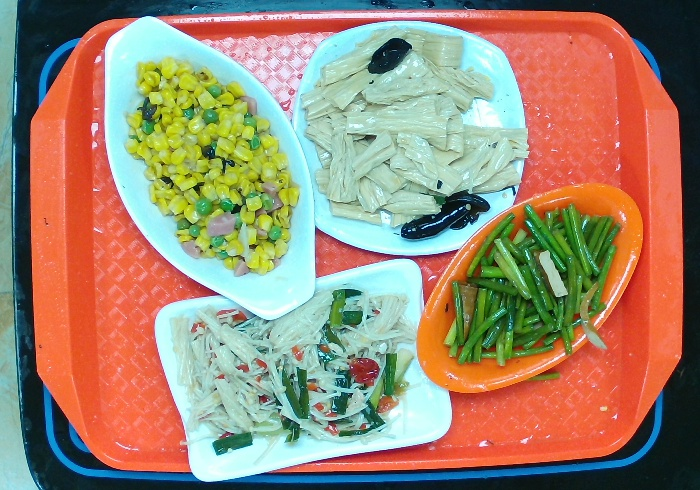RJxy-Ju_Huang_Tuo_Yuan: (416, 181, 644, 395)
RJxy-Si_Fang_Ao_Bian_Wan: (152, 257, 455, 482)
RJxy-Si_Fang_Die: (289, 17, 529, 258)
RJxy-Yu_Pan: (102, 14, 317, 322)
